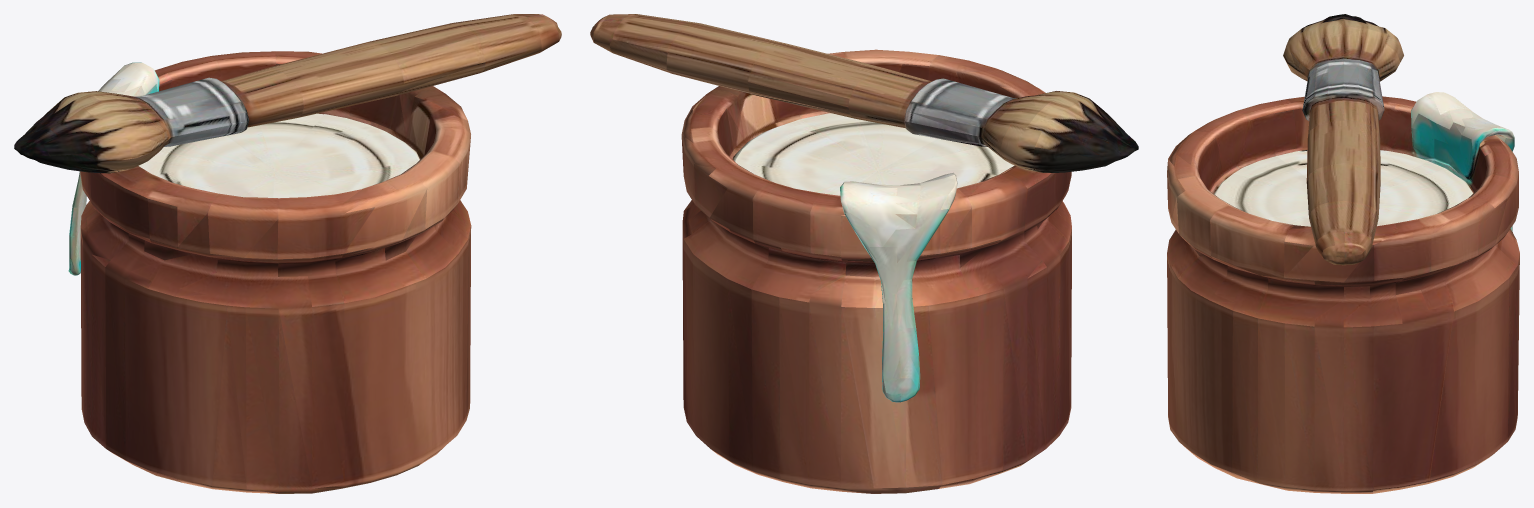
File: bone_glue.glb
3 views of the same model, side by side, from view 1: azimuth 30°, elevation 25°; view 2: azimuth 150°, elevation 25°; view 3: azimuth 270°, elevation 25° (orthographic). The views are drawn at different scales.
Size of the model in its own units: 1 by 0.6348 by 0.6328.
Materials: 1 (1 with a texture image).
